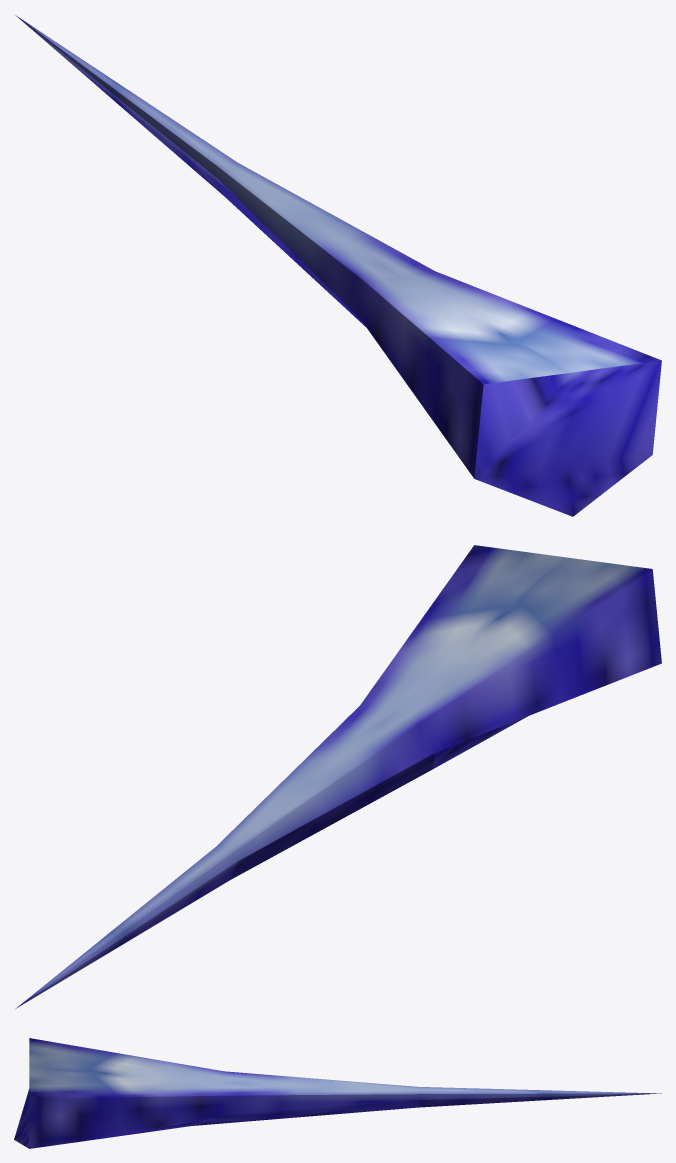
File: ioraystinger.obj
3 views of the same model, one above another, from view 1: azimuth 30°, elevation 25°; view 2: azimuth 150°, elevation 25°; view 3: azimuth 270°, elevation 25° (orthographic). The views are drawn at different scales.
Visible parts, largest first — view 1: ioraystinger; view 2: ioraystinger; view 3: ioraystinger.
Part boxes in pixels (bbox=[...]): ioraystinger: bbox=[15, 15, 661, 516]; ioraystinger: bbox=[15, 545, 661, 1008]; ioraystinger: bbox=[14, 1038, 661, 1148].
Size of the model in its own units: 0.3051 by 0.2193 by 1.6.
